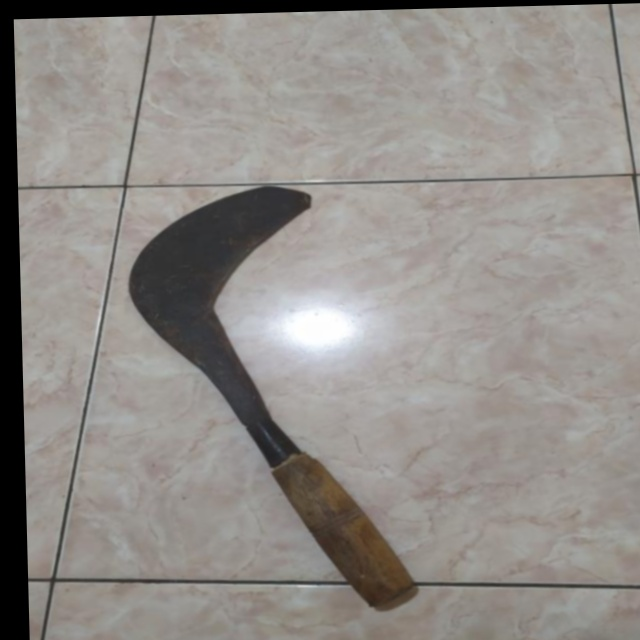Sharp-Object: (107, 171, 450, 633)
